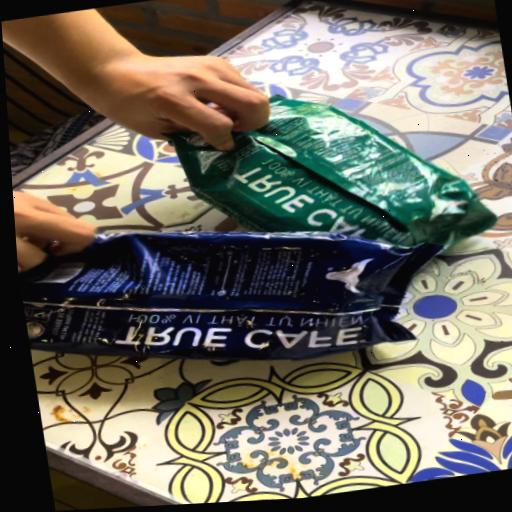cafe_hat: (19, 231, 443, 361)
cafe_xay: (170, 95, 495, 246)
